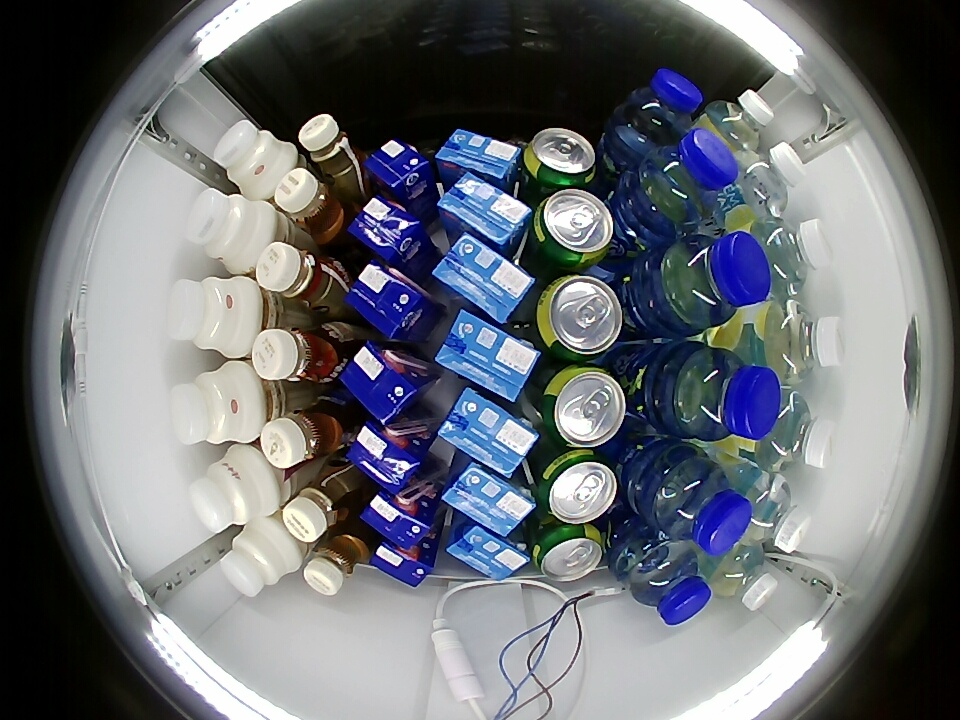bingqilinniunai: (338, 342, 429, 424), (345, 260, 431, 340), (345, 418, 426, 494), (348, 193, 427, 265), (359, 487, 436, 551), (364, 138, 433, 201), (370, 539, 435, 589)
kafei: (256, 243, 352, 317), (283, 458, 364, 541), (260, 395, 351, 468), (252, 321, 350, 388), (275, 169, 350, 249), (298, 114, 366, 187), (303, 527, 369, 595)
maidong: (659, 231, 772, 331), (634, 129, 739, 230), (671, 347, 781, 443), (650, 458, 754, 557), (614, 69, 704, 158), (626, 540, 713, 626)
qinningshui: (757, 299, 847, 383), (747, 217, 833, 299), (752, 393, 837, 470), (733, 471, 812, 552), (726, 142, 807, 218), (700, 89, 775, 159), (707, 542, 779, 610)
weitanai: (435, 308, 542, 402), (431, 232, 537, 324), (437, 387, 541, 477), (436, 172, 531, 253), (441, 460, 537, 538), (445, 520, 532, 583), (435, 128, 523, 187)
xuebi2: (536, 273, 623, 362), (540, 364, 628, 448), (532, 189, 615, 271), (537, 449, 620, 524), (522, 128, 599, 190), (532, 524, 607, 581)
yingyangkuaixian: (185, 188, 279, 276), (170, 361, 264, 445), (167, 275, 262, 358), (189, 445, 279, 532), (214, 120, 298, 198), (220, 517, 302, 596)
